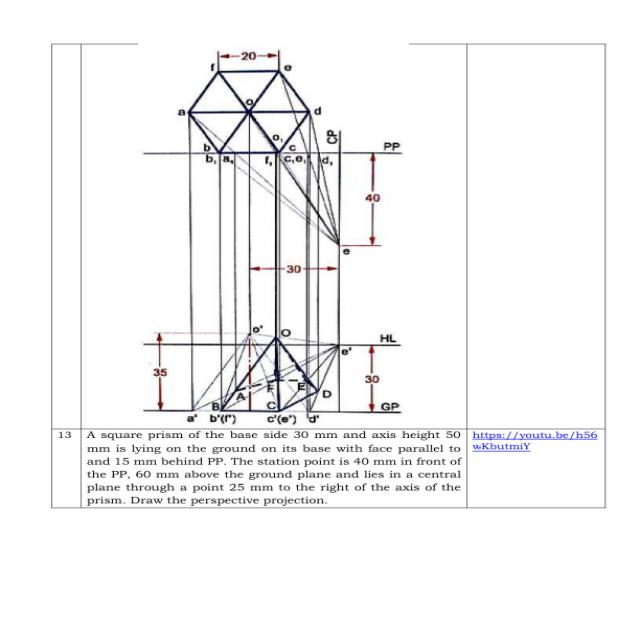Drawings: (136, 48, 416, 428)
